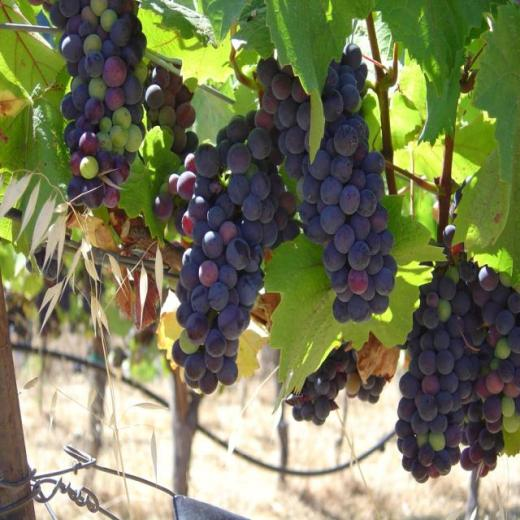Orange: (256, 45, 398, 322), (171, 107, 297, 394), (394, 225, 480, 483), (49, 0, 148, 209), (476, 267, 520, 478), (146, 62, 196, 150), (296, 343, 343, 422), (347, 342, 383, 406)
